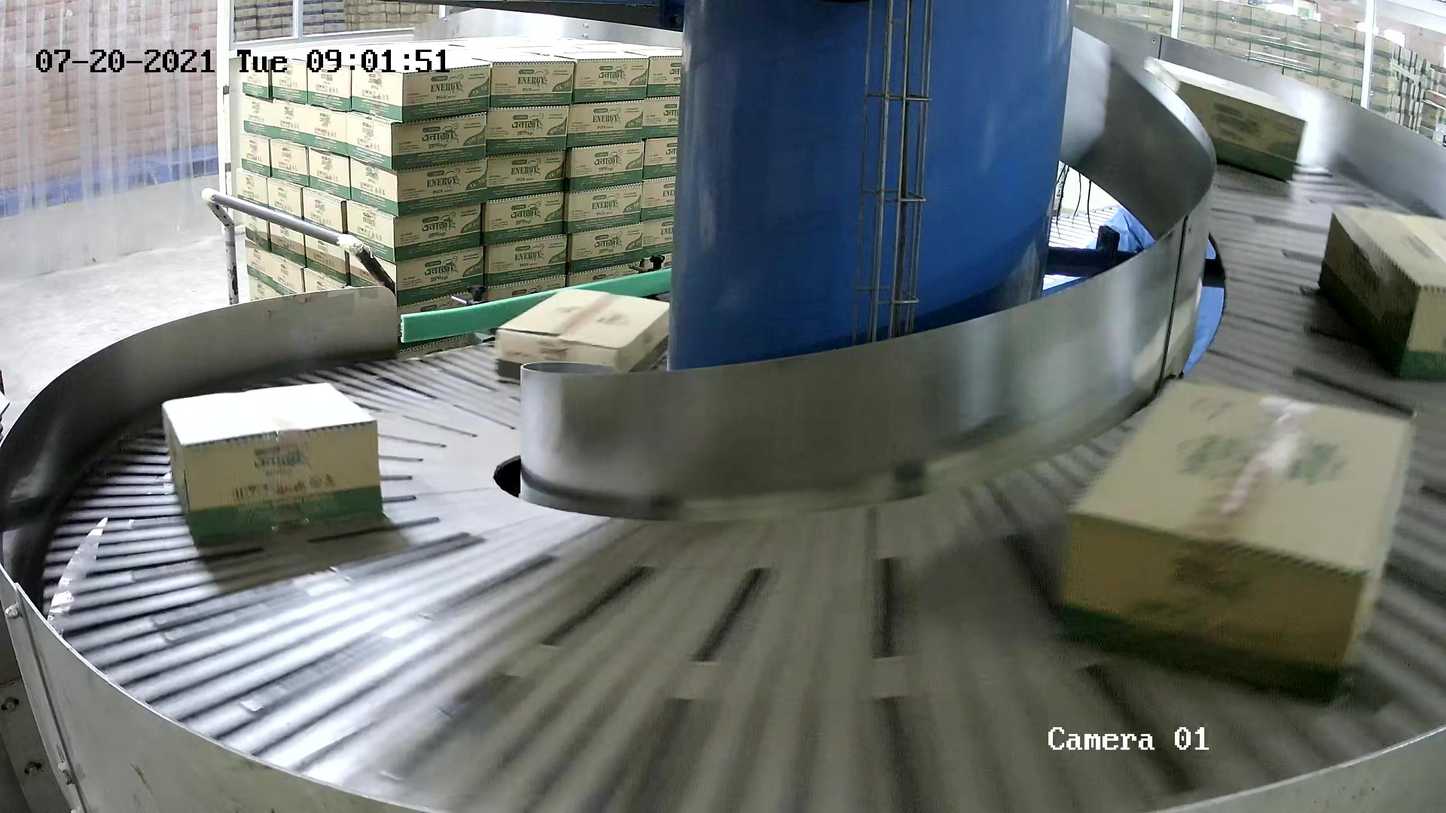Box: (1048, 375, 1419, 707), (160, 381, 385, 547), (1317, 205, 1446, 381), (1142, 55, 1308, 182), (495, 287, 671, 385)
